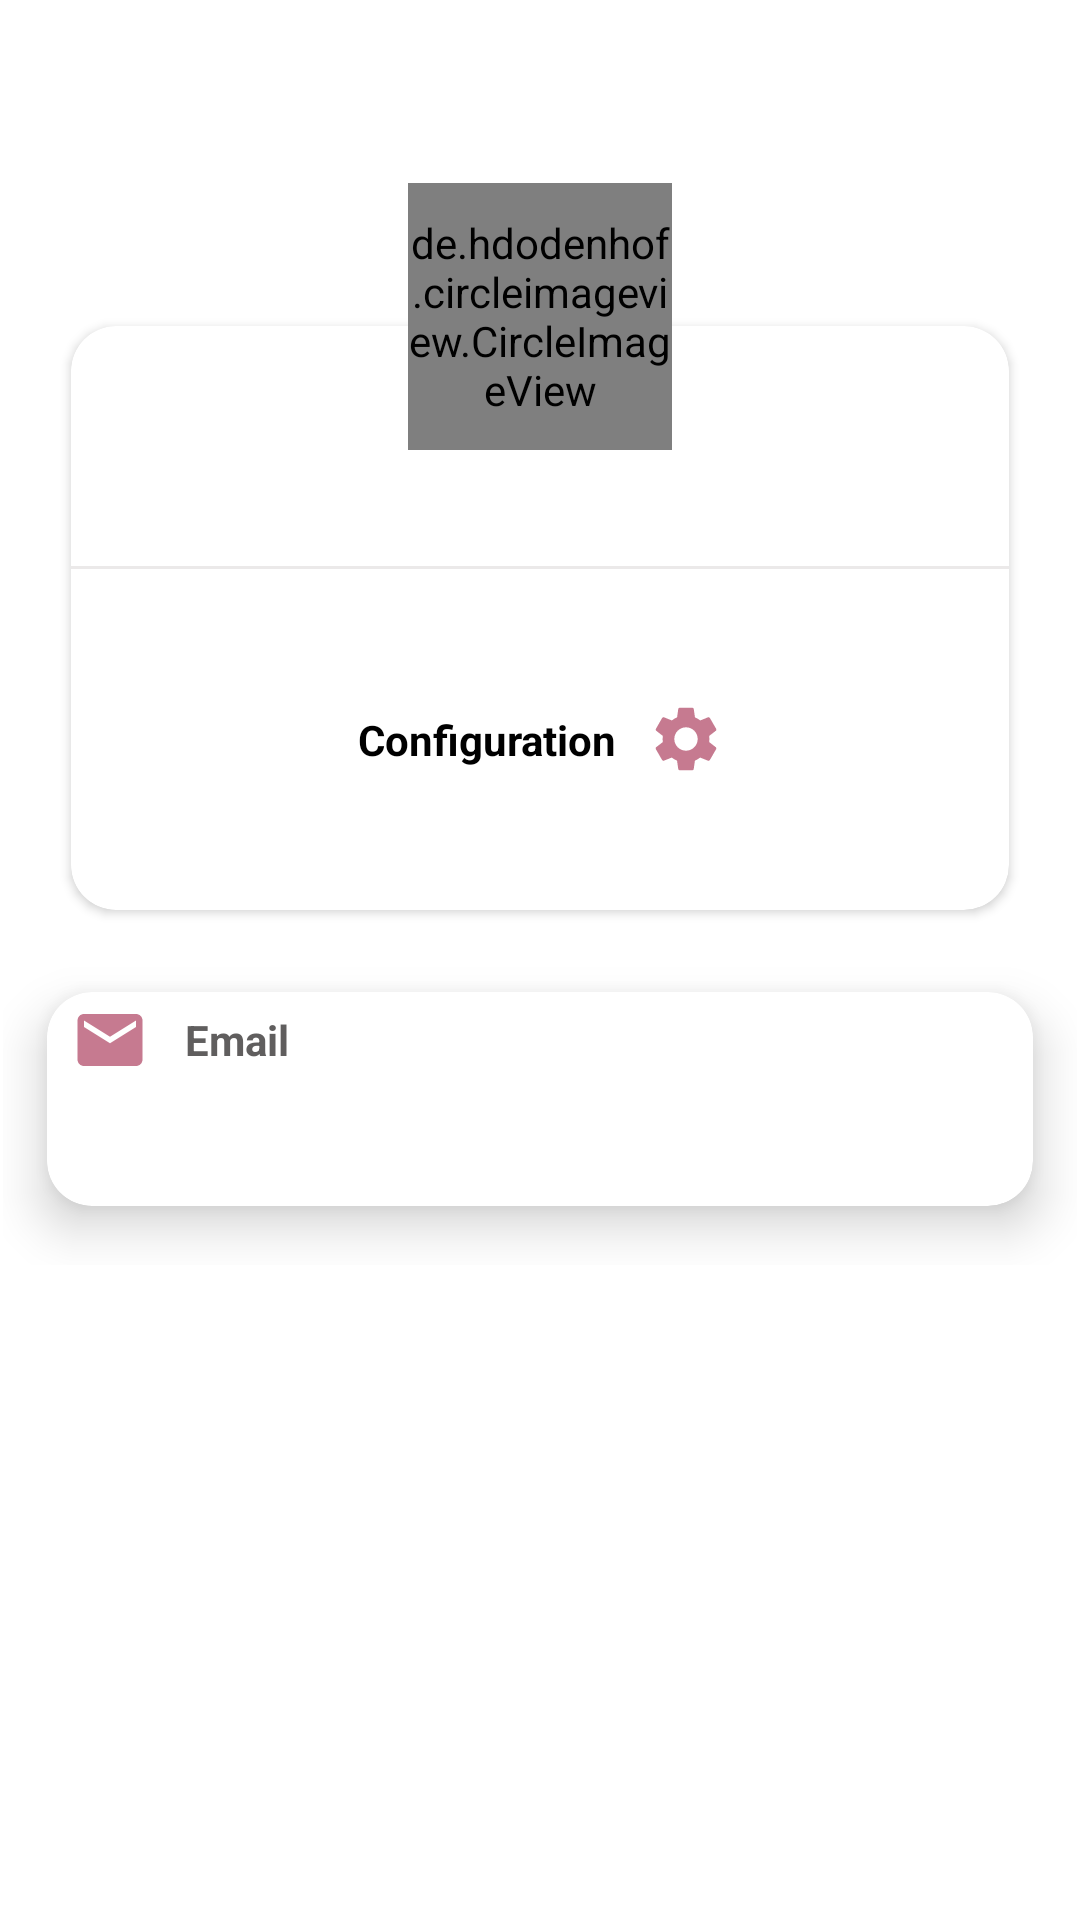

Icons on this 1080x1920 Android screen, each with the point to tap as [x,y]:
settings: [686,739]
